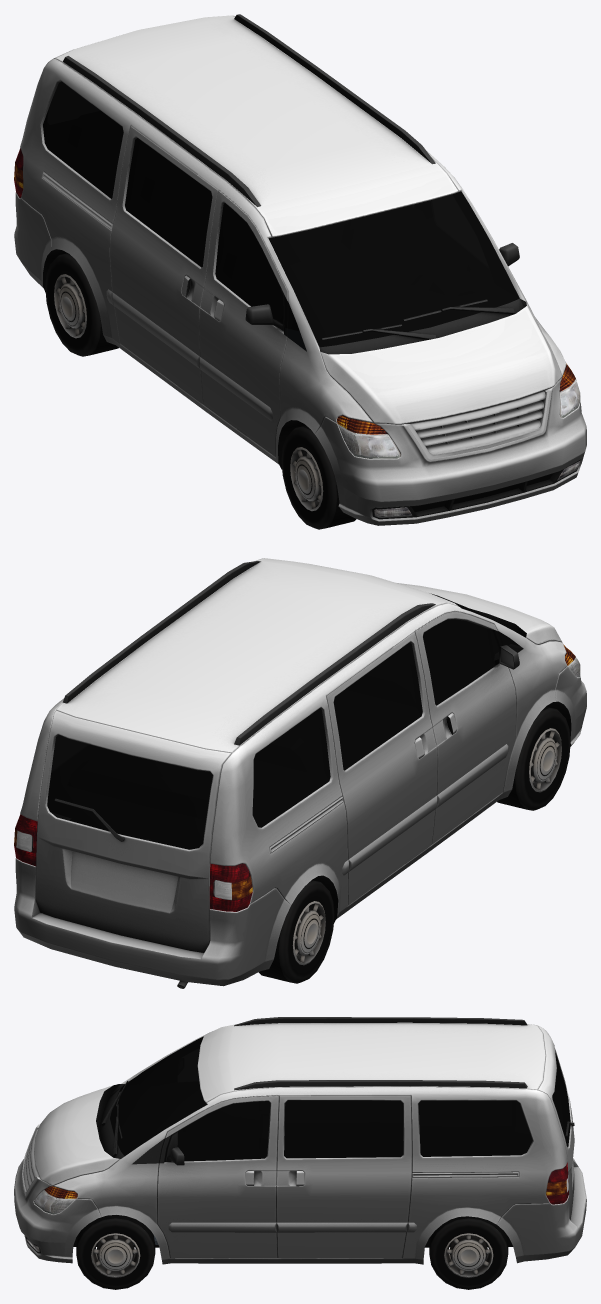
Rendered from van.glb.
3 renders of one model, top to bottom at view 1: azimuth 30°, elevation 25°; view 2: azimuth 150°, elevation 25°; view 3: azimuth 270°, elevation 25°, orthographic. The views are drawn at different scales.
Parts seen in each view (by area): view 1: minivan body_Body_0, minivan body_Glass_0, Door skin and glass (×2), TyreRim (×2), Lamp head; view 2: minivan body_Body_0, minivan body_Glass_0, Door skin and glass (×2), TyreRim (×2), Lamp brake; view 3: minivan body_Body_0, minivan body_Glass_0, Door skin and glass (×2), TyreRim (×2), Lamp head, Lamp brake.
Part boxes in pixels (x1,y1,x2,y2): minivan body_Body_0: (14,14,586,525); minivan body_Glass_0: (43,81,519,347); Door skin and glass (×2): (209,203,306,451); TyreRim (×2): (45,253,356,529); Lamp head: (337,363,580,516); minivan body_Body_0: (14,558,586,988); minivan body_Glass_0: (47,593,495,849); Door skin and glass (×2): (423,607,538,824); TyreRim (×2): (258,706,570,983); Lamp brake: (14,814,252,911); minivan body_Body_0: (14,1017,586,1264); minivan body_Glass_0: (110,1036,570,1158); Door skin and glass (×2): (128,1098,270,1251); TyreRim (×2): (76,1215,508,1289); Lamp head: (26,1186,77,1251); Lamp brake: (546,1162,568,1204).
Size of the model in its own units: 2.07 by 1.95 by 5.1.
Materials: 6 (4 with a texture image).
